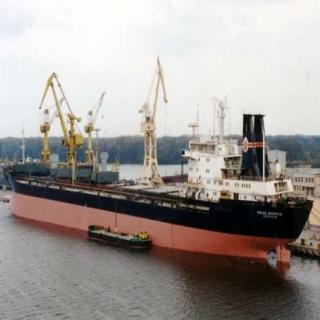Bulk Carrier: (1, 62, 320, 256)
